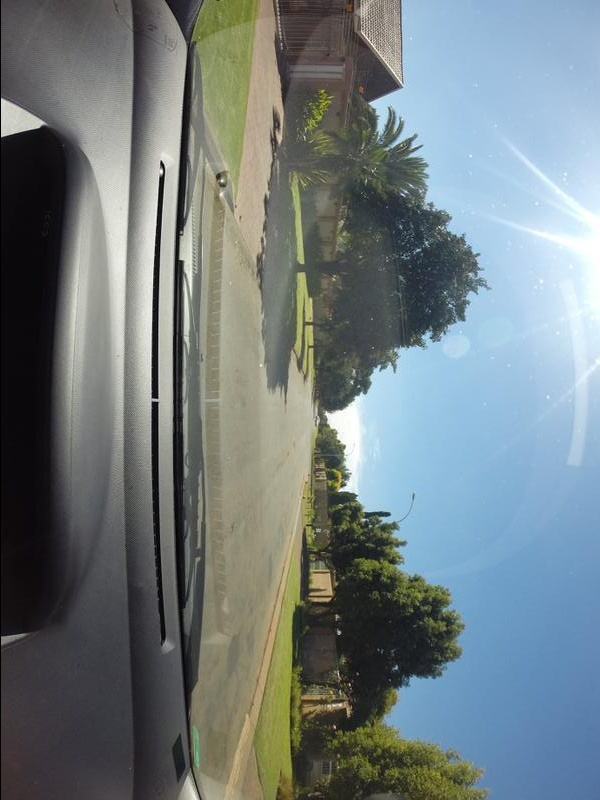pothole: (226, 523, 237, 535)
